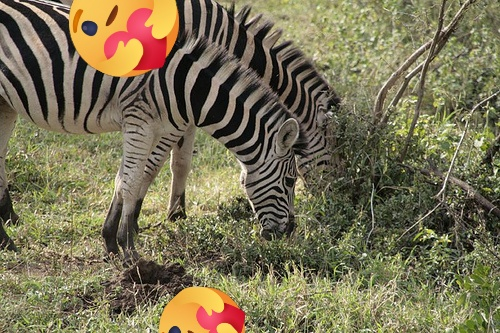care: (69, 0, 179, 77), (159, 287, 245, 333)
